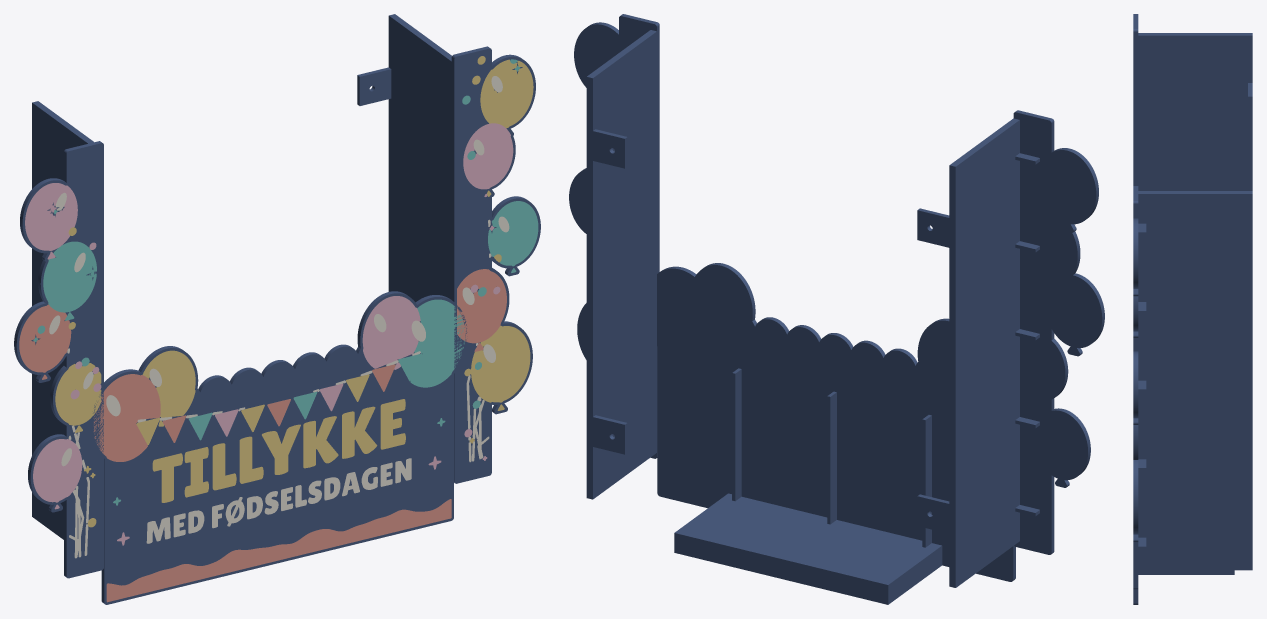
File: parts.glb
3 views of the same model, side by side, from view 1: azimuth 30°, elevation 25°; view 2: azimuth 150°, elevation 25°; view 3: azimuth 270°, elevation 25° (orthographic). The views are drawn at different scales.
Parts seen in each view (by area): view 1: topper__base, wing_right__base, wing_left__base, topper__gold, topper__coral, wing_right__gold, wing_left__pink, topper__cream, topper__teal, topper__pink, wing_left__teal, wing_right__coral (+6 smaller); view 2: topper__base, wing_left__base, wing_right__base; view 3: wing_right__base, wing_left__base, topper__base.
Boxes of the visible parts, x1,y1,x2,y2 form: topper__base: [90, 291, 467, 604]; wing_right__base: [357, 14, 540, 483]; wing_left__base: [14, 101, 103, 578]; topper__gold: [136, 350, 405, 502]; topper__coral: [93, 364, 451, 602]; wing_right__gold: [464, 56, 533, 443]; wing_left__pink: [25, 183, 101, 509]; topper__cream: [106, 314, 425, 543]; topper__teal: [113, 299, 464, 505]; topper__pink: [117, 296, 441, 545]; wing_left__teal: [33, 210, 96, 366]; wing_right__coral: [457, 269, 506, 351]; topper__base: [657, 263, 1026, 604]; wing_left__base: [917, 110, 1104, 587]; wing_right__base: [569, 14, 659, 499]; wing_right__base: [1133, 186, 1252, 589]; wing_left__base: [1133, 14, 1252, 190]; topper__base: [1133, 570, 1234, 604].
Size of the model in its own units: 336 by 284 by 73.
